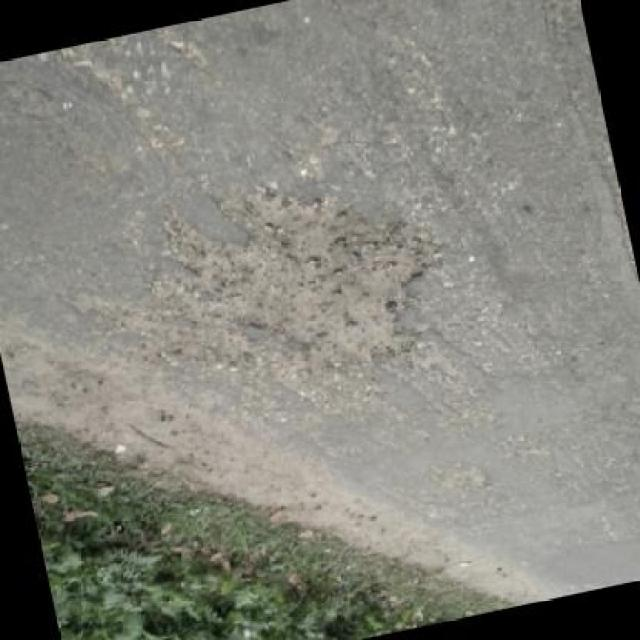pothole: (192, 168, 451, 398)
